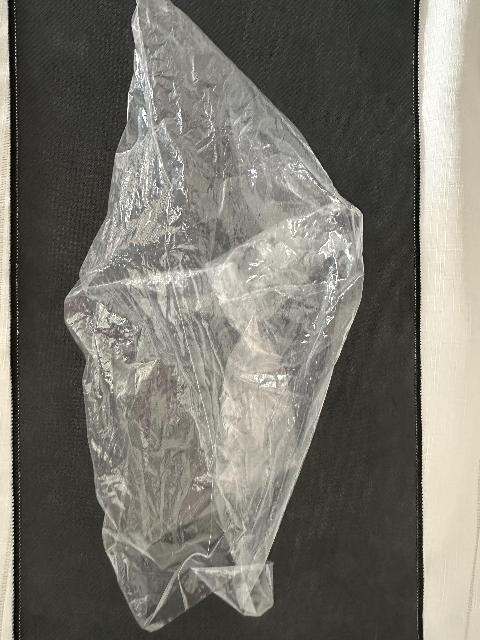Plastik: (68, 5, 360, 640)
